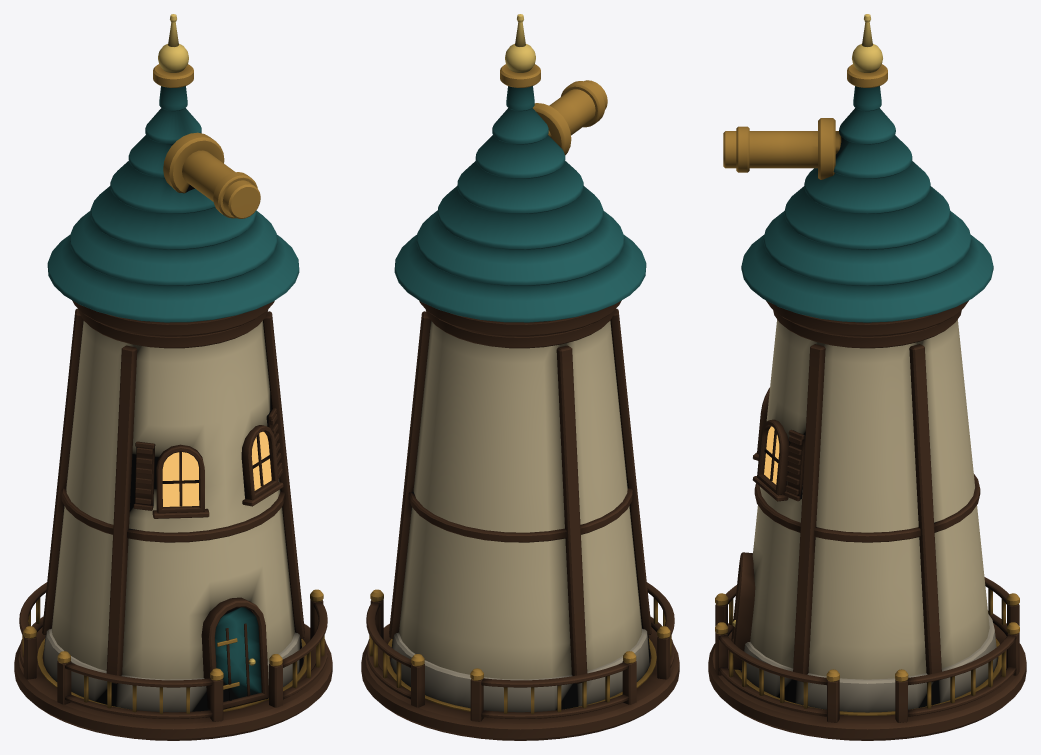
Rendered from windmill_tower.glb.
The picture shows the model from 3 angles, left to right: view 1: azimuth 30°, elevation 25°; view 2: azimuth 150°, elevation 25°; view 3: azimuth 270°, elevation 25°; orthographic projection.
Visible parts, largest first — view 1: WindmillTower_Walls, WindmillTower_RoofTiles, WindmillTower_Slat, WindmillTower_Platform, WindmillTower_Railing, WindmillTower_RoofCap, WindmillTower_Door, WindmillTower_WindowFrame, WindmillTower_RoofFrame, WindmillTower_Shutter; view 2: WindmillTower_Walls, WindmillTower_RoofTiles, WindmillTower_Slat, WindmillTower_Platform, WindmillTower_Railing, WindmillTower_RoofCap, WindmillTower_RoofFrame; view 3: WindmillTower_Walls, WindmillTower_RoofTiles, WindmillTower_Slat, WindmillTower_Railing, WindmillTower_Platform, WindmillTower_RoofCap, WindmillTower_RoofFrame, WindmillTower_WindowFrame, WindmillTower_Door, WindmillTower_Shutter.
Part boxes in pixels (<box>): WindmillTower_Walls: <box>43,309,303,712</box>; WindmillTower_RoofTiles: <box>47,86,299,322</box>; WindmillTower_Slat: <box>42,308,304,683</box>; WindmillTower_Platform: <box>14,623,332,740</box>; WindmillTower_Railing: <box>19,582,327,721</box>; WindmillTower_RoofCap: <box>153,14,260,218</box>; WindmillTower_Door: <box>201,597,268,709</box>; WindmillTower_WindowFrame: <box>152,425,283,518</box>; WindmillTower_RoofFrame: <box>72,300,274,336</box>; WindmillTower_Shutter: <box>133,408,282,510</box>; WindmillTower_Walls: <box>390,309,650,712</box>; WindmillTower_RoofTiles: <box>394,86,646,322</box>; WindmillTower_Slat: <box>389,308,651,683</box>; WindmillTower_Platform: <box>361,623,679,740</box>; WindmillTower_Railing: <box>366,582,674,721</box>; WindmillTower_RoofCap: <box>500,14,607,155</box>; WindmillTower_RoofFrame: <box>419,300,621,336</box>; WindmillTower_Walls: <box>740,310,997,712</box>; WindmillTower_RoofTiles: <box>741,86,993,322</box>; WindmillTower_Slat: <box>793,344,941,682</box>; WindmillTower_Railing: <box>715,577,1019,722</box>; WindmillTower_Platform: <box>708,623,1026,740</box>; WindmillTower_RoofCap: <box>723,14,887,179</box>; WindmillTower_RoofFrame: <box>766,300,968,336</box>; WindmillTower_WindowFrame: <box>752,387,789,501</box>; WindmillTower_Door: <box>731,552,755,669</box>; WindmillTower_Shutter: <box>784,429,805,501</box>.
Size of the model in its own units: 0.085 by 0.195 by 0.085.
